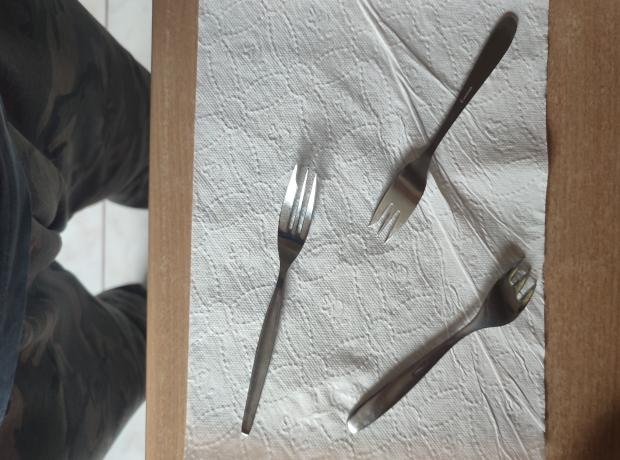metal: (368, 11, 518, 246), (348, 256, 537, 435), (242, 164, 318, 437)
